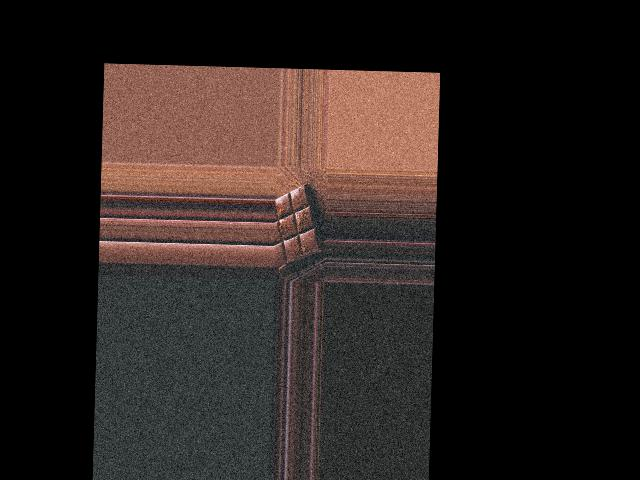chocolate: (274, 179, 323, 269)
